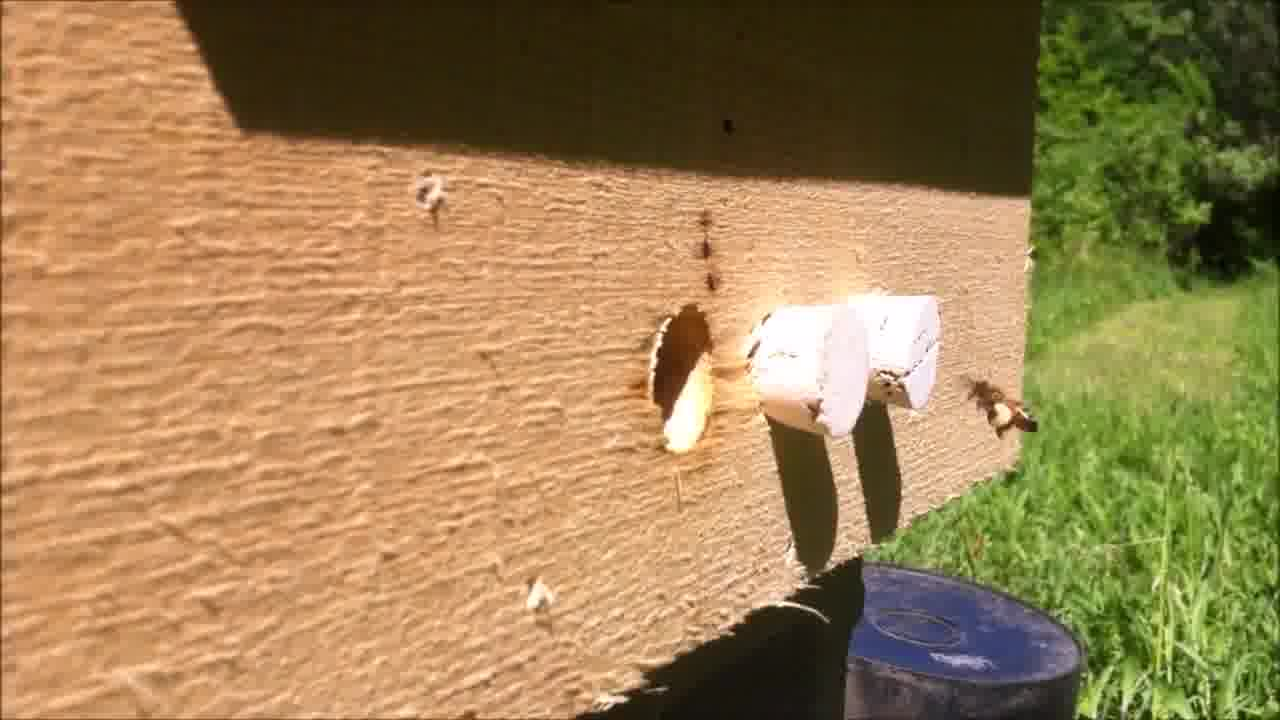pollen: (965, 375, 1043, 437)
